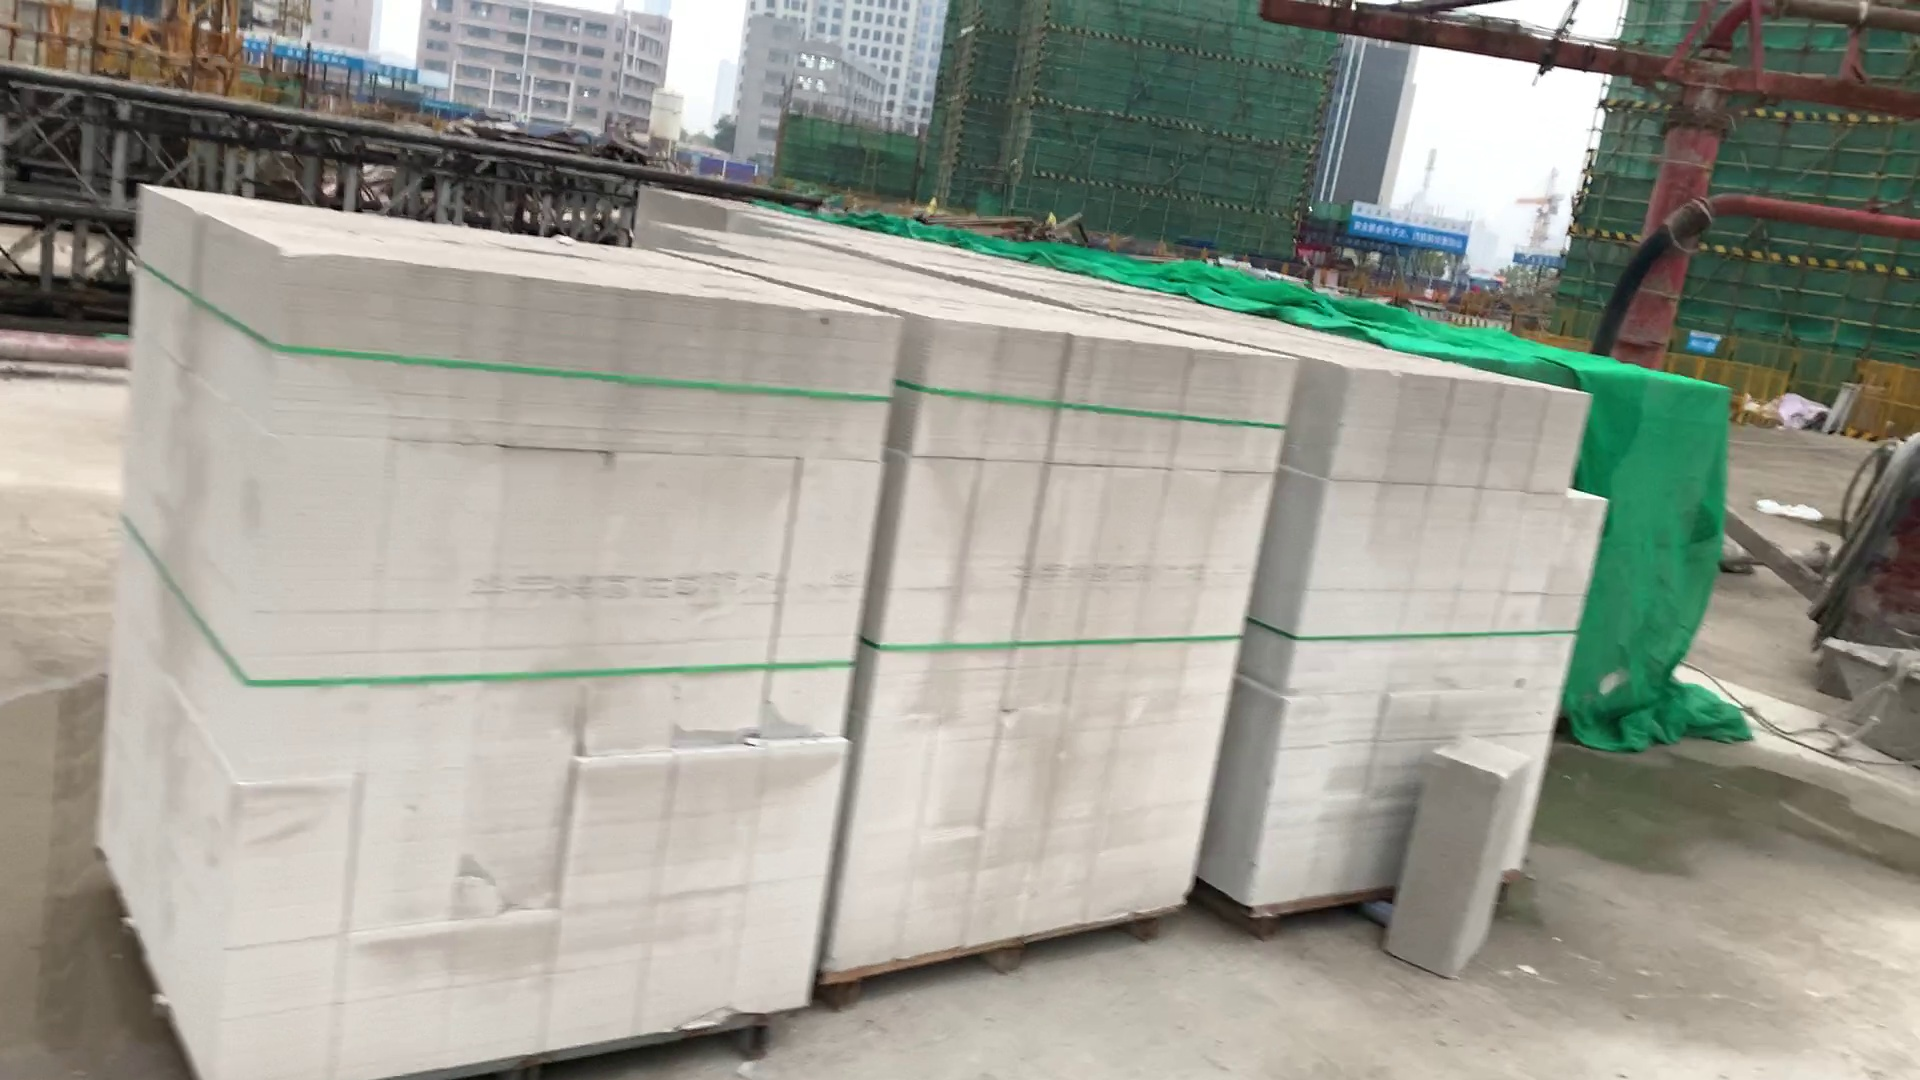brickwork: (218, 237, 876, 1077), (822, 316, 1276, 965), (1270, 360, 1602, 927)
